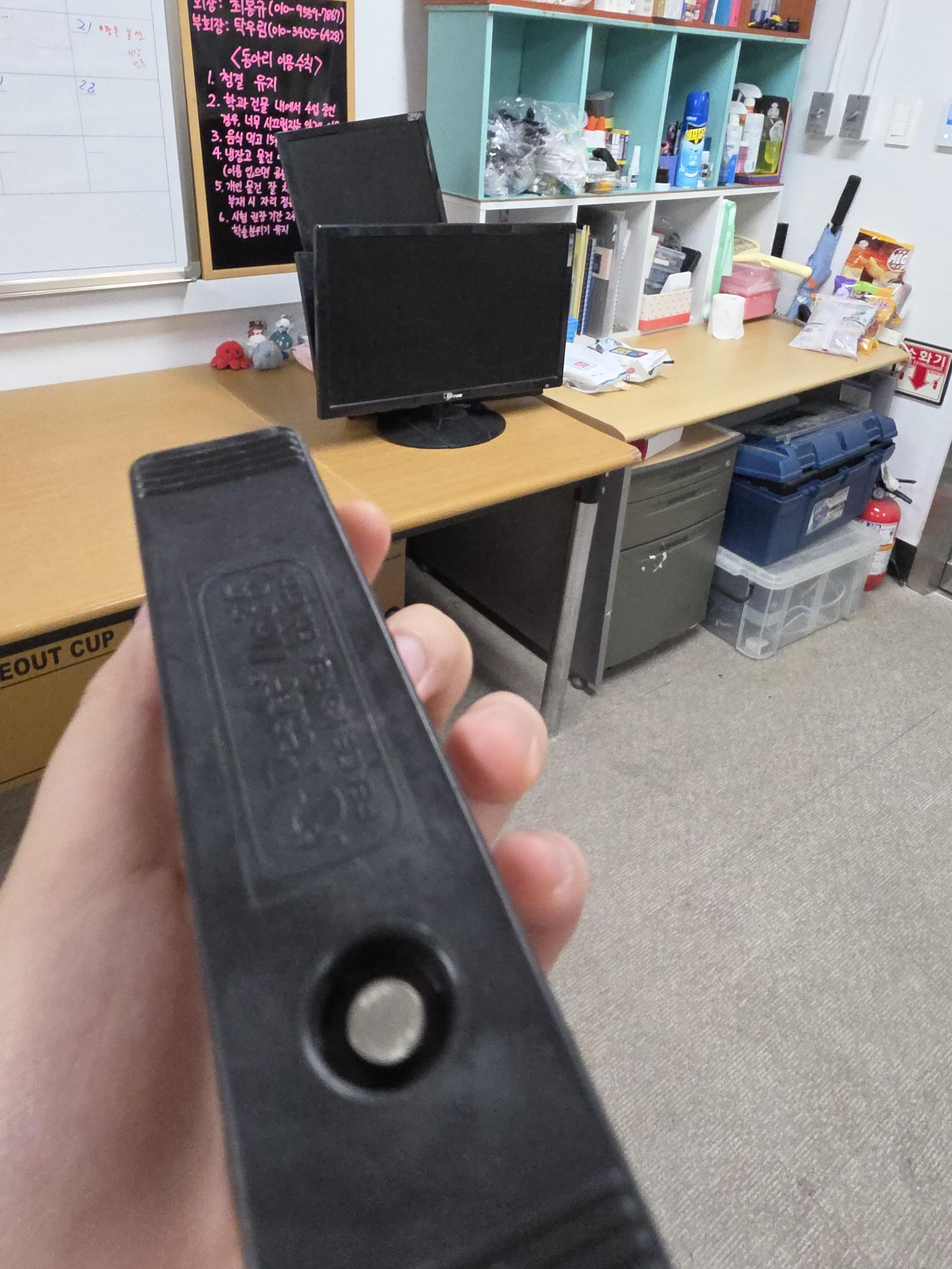stapler: (128, 426, 674, 1269)
tissue: (711, 294, 746, 341)
